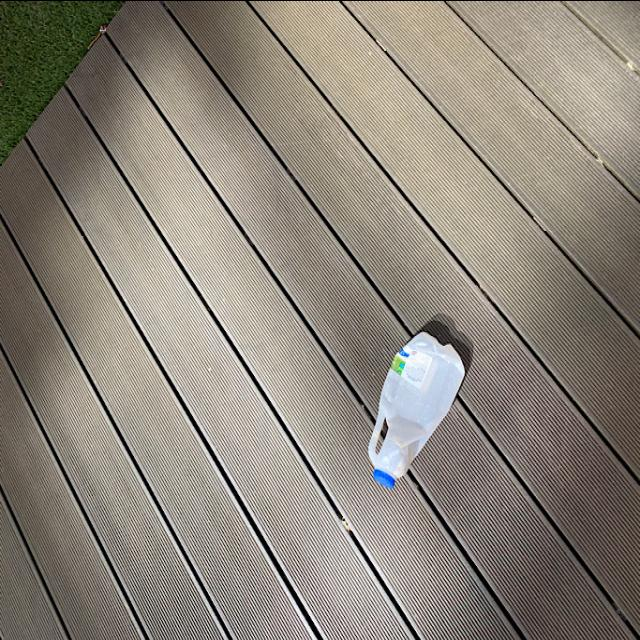litter: (364, 332, 474, 494)
